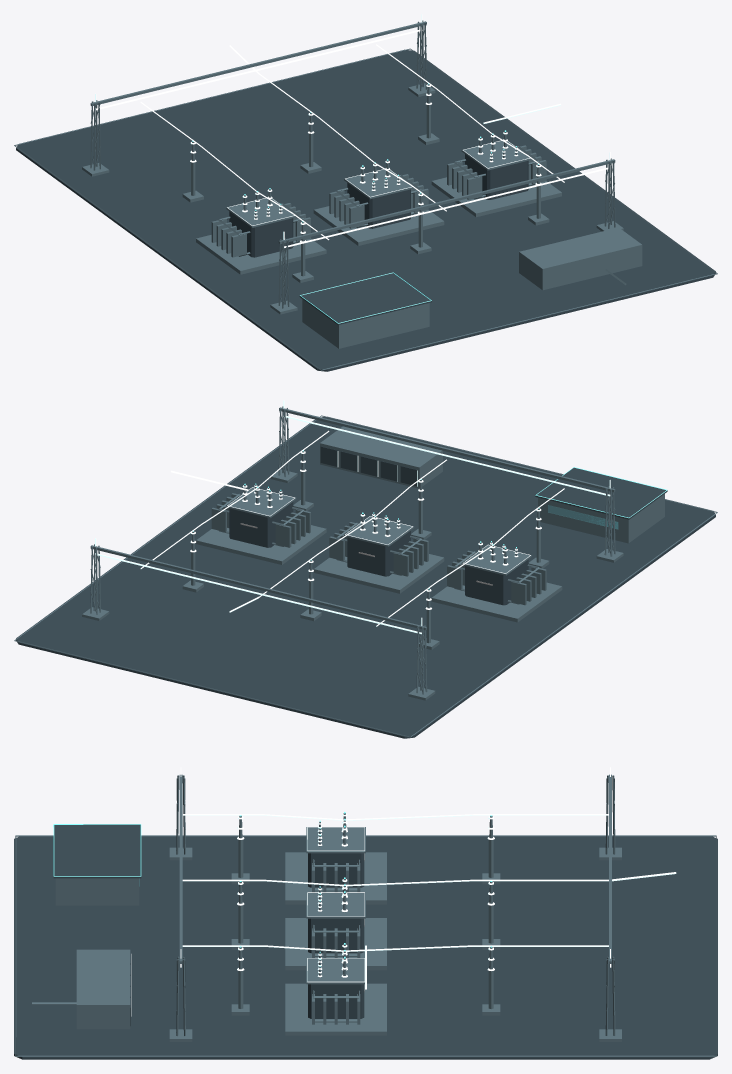
Rendered from substation_transformer_yard.lod1.glb.
3 views of the same model, one above another, from view 1: azimuth 30°, elevation 25°; view 2: azimuth 150°, elevation 25°; view 3: azimuth 270°, elevation 25° (orthographic). The views are drawn at different scales.
Parts seen in each view (by area): view 1: substation_transformer_yard_graphite.001, substation_transformer_yard_graphite_light.001, substation_transformer_yard_white.001; view 2: substation_transformer_yard_graphite.001, substation_transformer_yard_graphite_light.001, substation_transformer_yard_white.001; view 3: substation_transformer_yard_graphite.001, substation_transformer_yard_graphite_light.001, substation_transformer_yard_white.001, substation_transformer_yard_edge.001.
Boxes of the visible parts, x1,y1,x2,y2 form: substation_transformer_yard_graphite.001: (16,49,715,371); substation_transformer_yard_graphite_light.001: (14,20,717,370); substation_transformer_yard_white.001: (95,14,610,247); substation_transformer_yard_graphite.001: (16,416,715,738); substation_transformer_yard_graphite_light.001: (14,406,717,737); substation_transformer_yard_white.001: (95,400,610,634); substation_transformer_yard_graphite.001: (14,824,717,1059); substation_transformer_yard_graphite_light.001: (15,774,716,1056); substation_transformer_yard_white.001: (131,767,676,1016); substation_transformer_yard_edge.001: (53,812,491,966).
Size of the model in its own units: 88 by 16.7 by 118.
